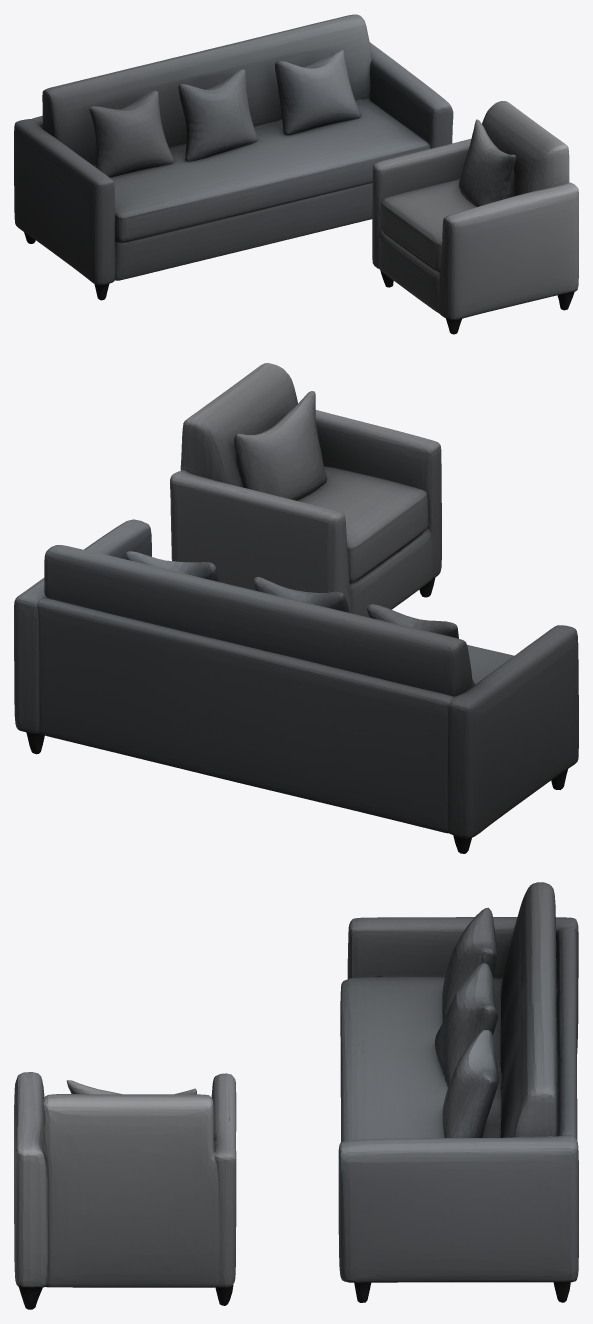
The picture shows the model from 3 angles, top to bottom: view 1: azimuth 30°, elevation 25°; view 2: azimuth 150°, elevation 25°; view 3: azimuth 270°, elevation 25°; orthographic projection. The views are drawn at different scales.
Visible parts, largest first — view 1: world; view 2: world; view 3: world.
Part boxes in pixels (x1,y1,x2,y2): world: [14, 14, 578, 334]; world: [14, 363, 578, 853]; world: [14, 882, 578, 1309].
Size of the model in its own units: 0.9914 by 0.4167 by 0.9974.
1 material, 1 textured.
